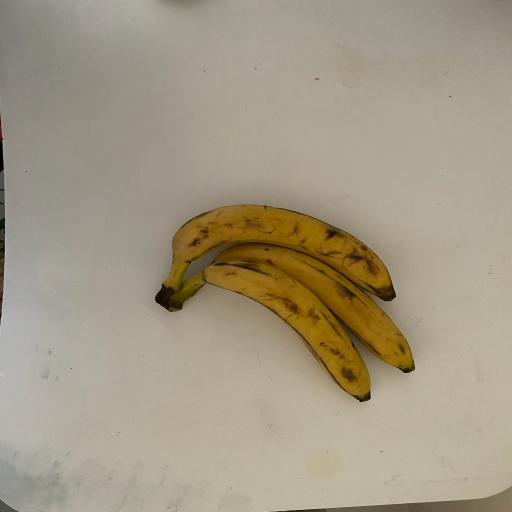banana: (140, 225, 436, 396), (132, 245, 395, 426), (132, 189, 433, 311)
